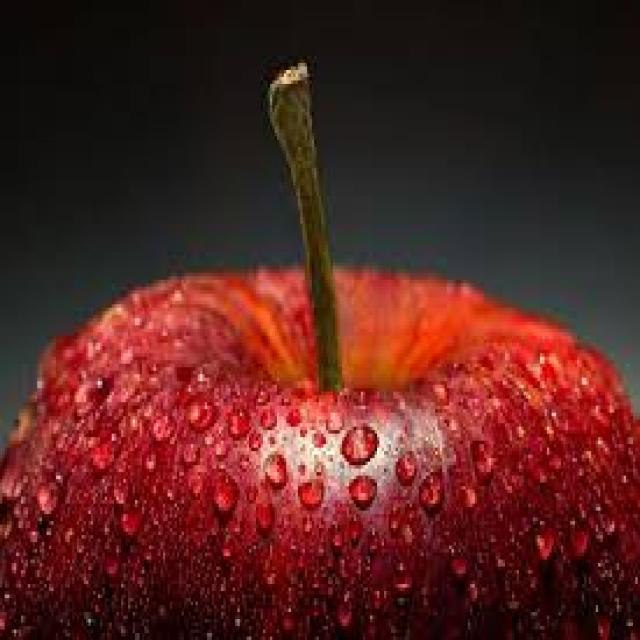Apple: (49, 328, 620, 640)
